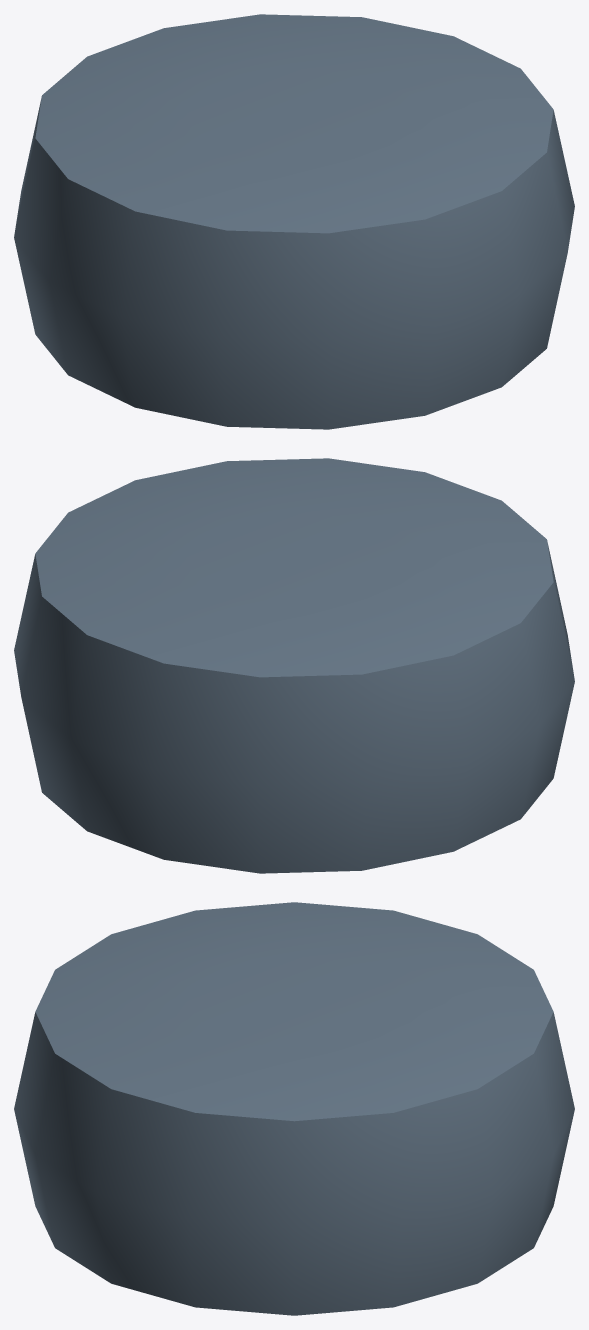
The model's file is small 360 speaker.fbx.
The picture shows the model from 3 angles, top to bottom: view 1: azimuth 30°, elevation 25°; view 2: azimuth 150°, elevation 25°; view 3: azimuth 270°, elevation 25°; orthographic projection.
Parts seen in each view (by area): view 1: Sphere; view 2: Sphere; view 3: Sphere.
Boxes of the visible parts, bbox=[...] form: Sphere: bbox=[14, 14, 574, 429]; Sphere: bbox=[14, 458, 574, 873]; Sphere: bbox=[14, 902, 574, 1315].
Bounding box in the file's own units: 200 × 84.16 × 200.
